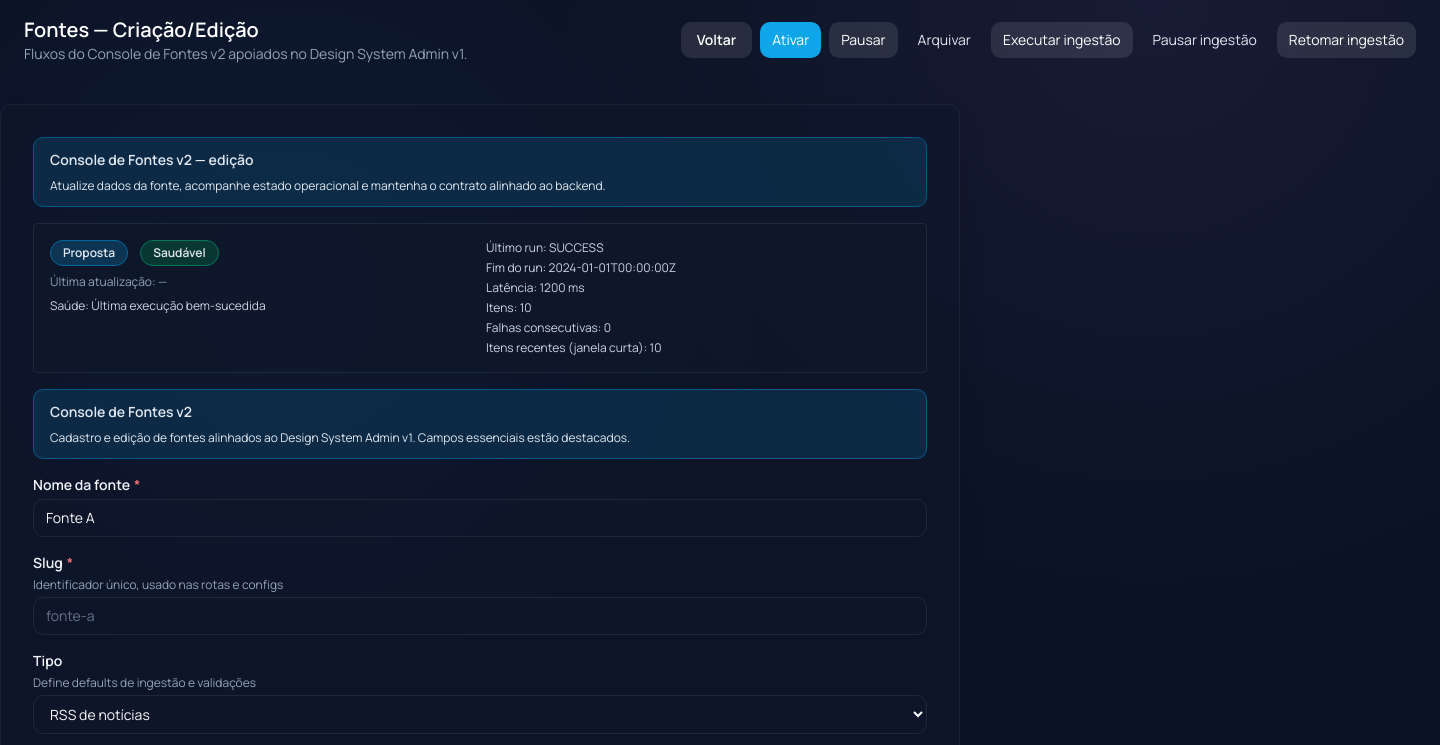
Test case: Console de Fontes v2 › mostra erro quando ação falha
Expected: the text "Proposta" is shown, x1=50 y1=240 x2=128 y2=266
Click the button "Pausar ingestão" at x=1205, y=40, box x1=1140 y1=22 x2=1269 y2=58
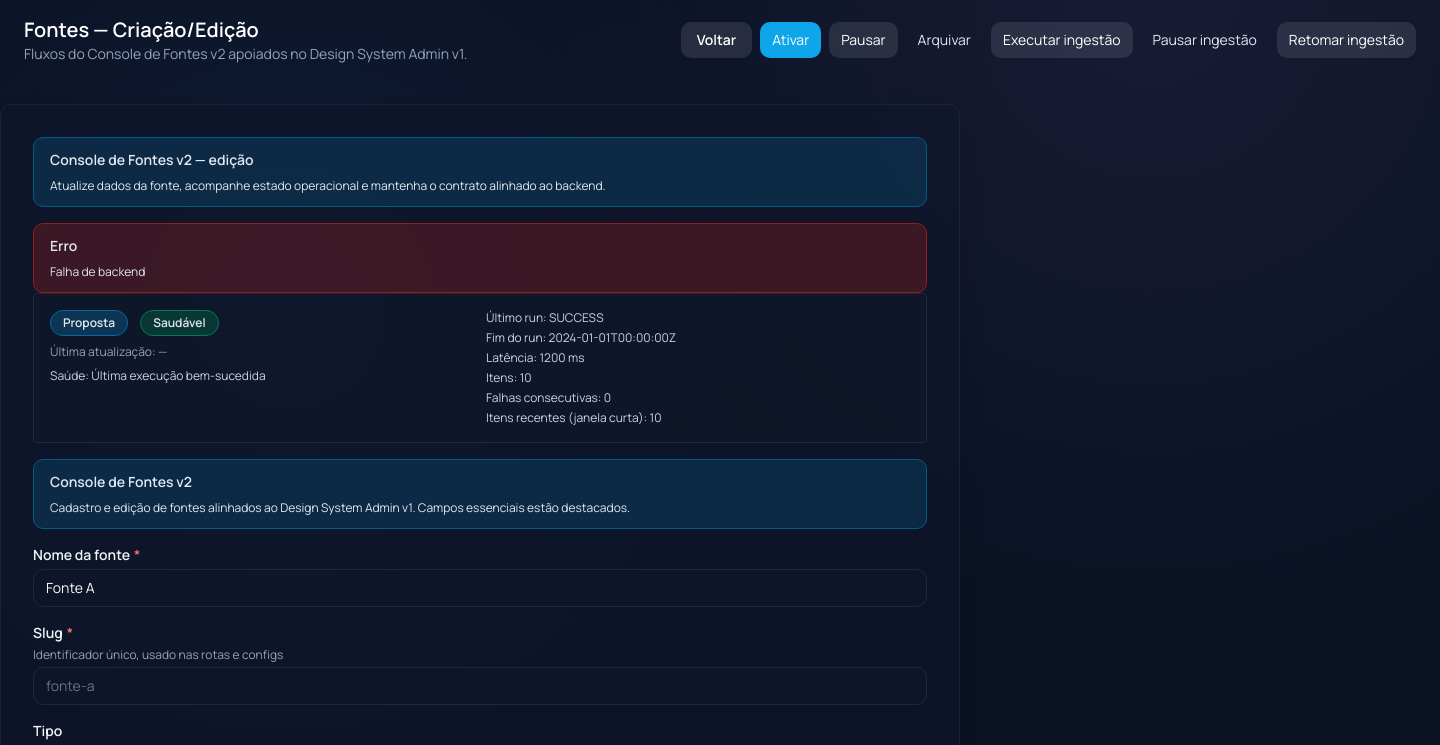
Expected: the text "Falha de backend" is shown, x1=50 y1=263 x2=145 y2=280
